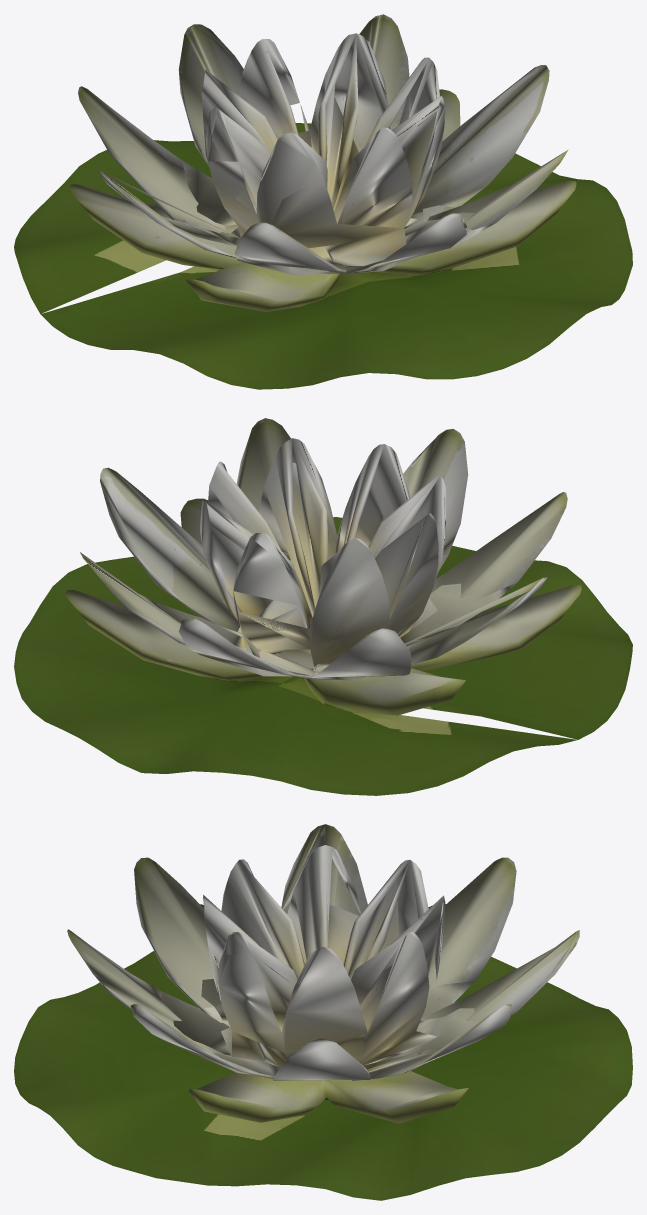
The model's file is lotus.glb.
3 renders of one model, top to bottom at view 1: azimuth 30°, elevation 25°; view 2: azimuth 150°, elevation 25°; view 3: azimuth 270°, elevation 25°, orthographic.
Parts seen in each view (by area): view 1: tripo_node_b6a4fcd0-1655-49b9-8721-736c8c215008; view 2: tripo_node_b6a4fcd0-1655-49b9-8721-736c8c215008; view 3: tripo_node_b6a4fcd0-1655-49b9-8721-736c8c215008.
Part boxes in pixels (x1,y1,x2,y2): tripo_node_b6a4fcd0-1655-49b9-8721-736c8c215008: [14, 14, 632, 389]; tripo_node_b6a4fcd0-1655-49b9-8721-736c8c215008: [14, 418, 632, 795]; tripo_node_b6a4fcd0-1655-49b9-8721-736c8c215008: [14, 824, 632, 1200].
Bounding box in the file's own units: 0.998 × 0.3145 × 0.998.
1 material, 1 textured.
